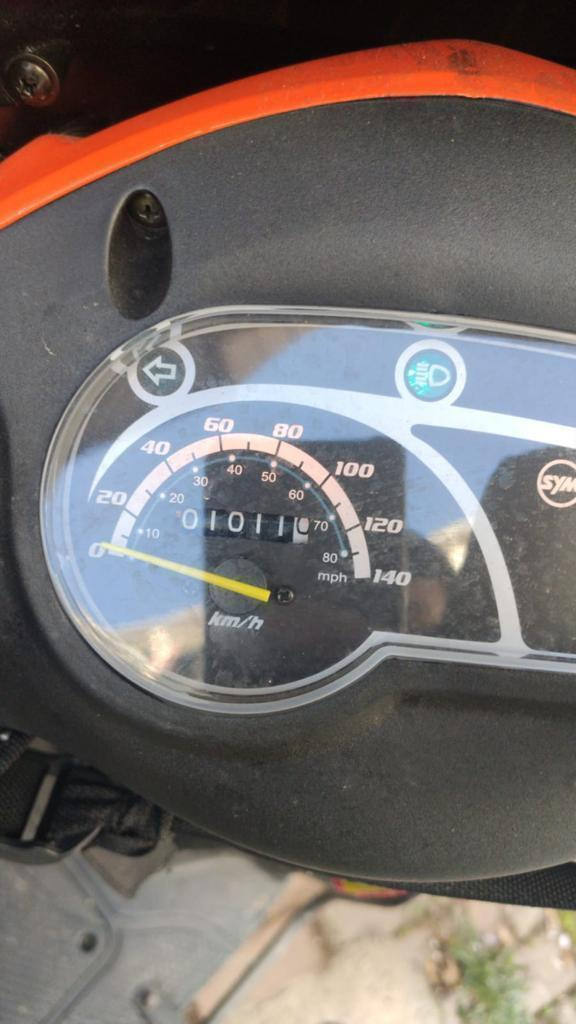0: (225, 508, 246, 534), (180, 506, 199, 531), (294, 514, 311, 536)
1: (272, 511, 288, 538), (251, 510, 265, 536), (206, 508, 218, 533)
odometer: (169, 503, 313, 548)
